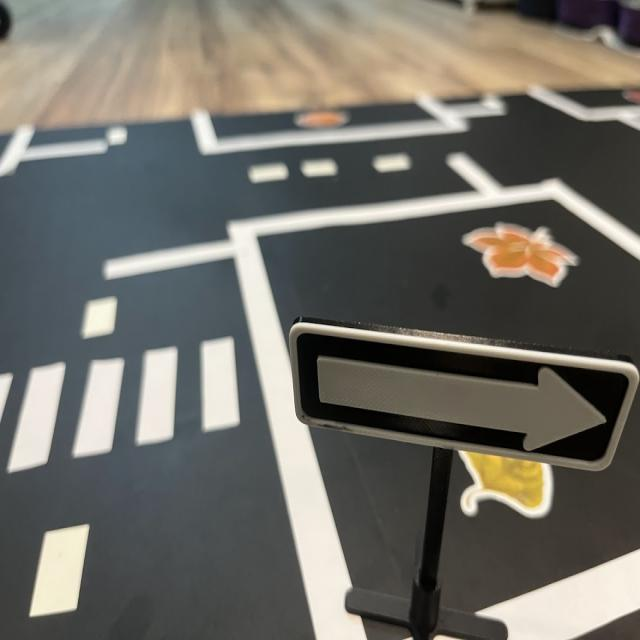road_crosswalk: (1, 326, 245, 483)
sign_oneway_right: (292, 323, 637, 478)
